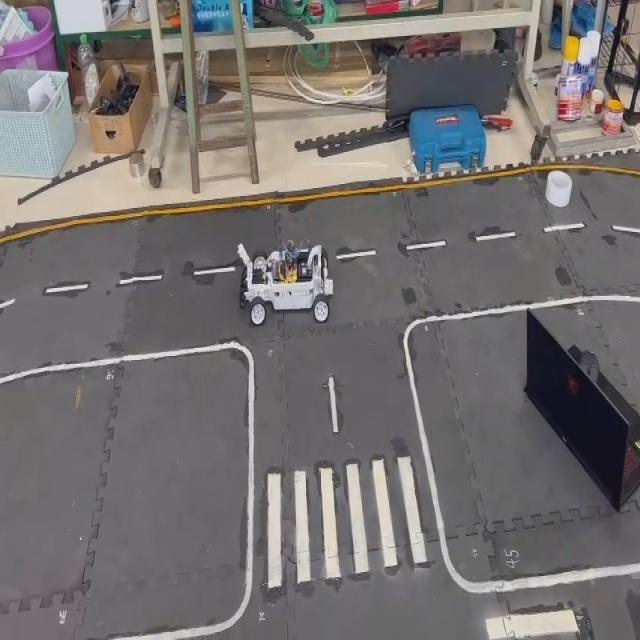SiCo-CAR: (235, 237, 334, 327)
